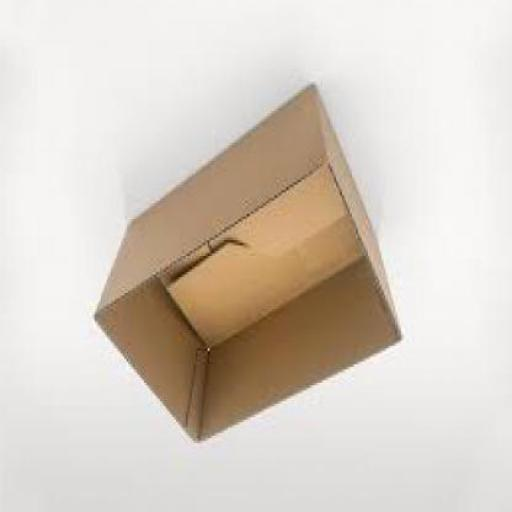cardboard: (99, 89, 407, 449)
